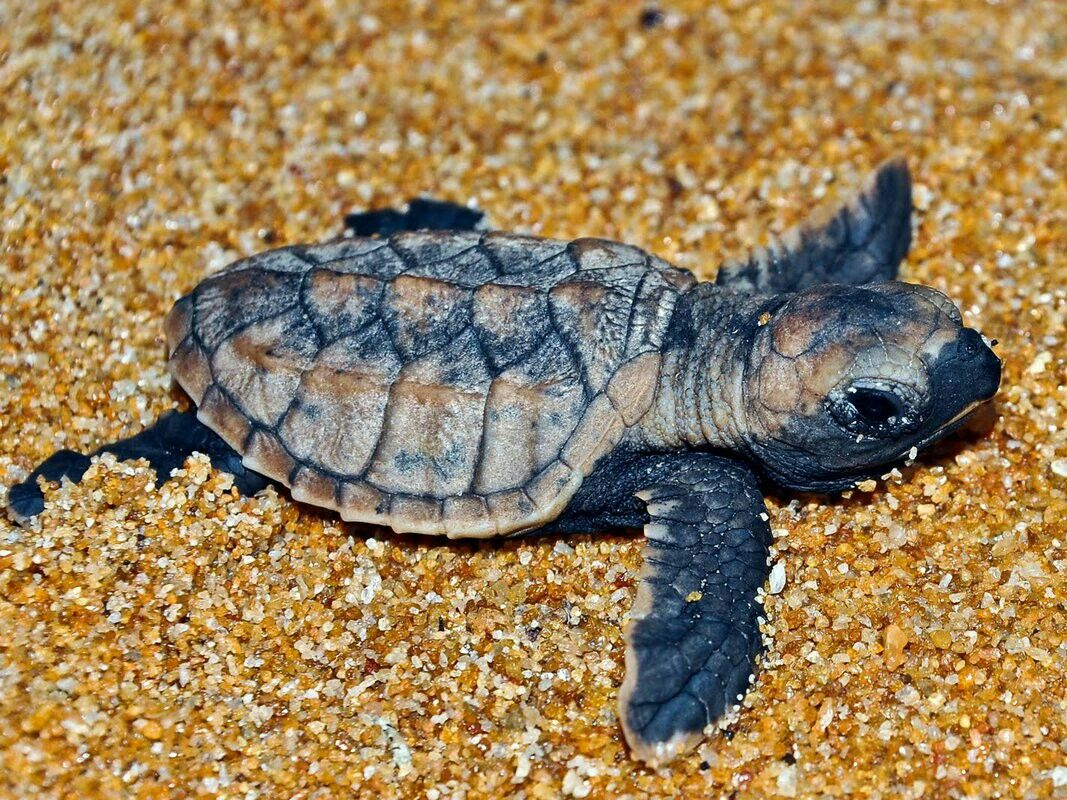eye: (819, 376, 934, 442)
mouth: (920, 376, 1006, 459)
